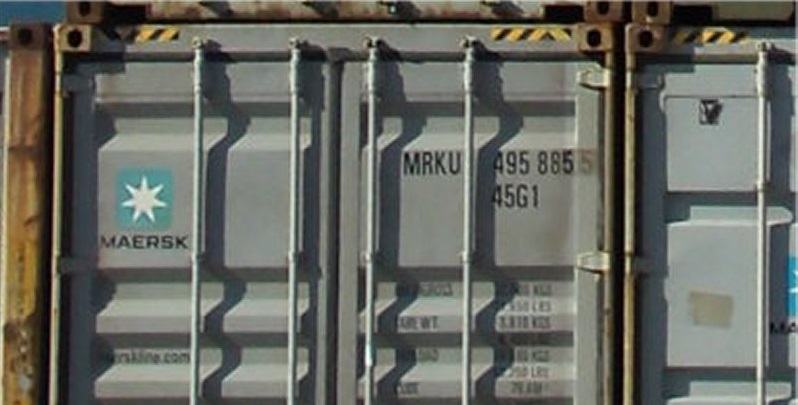container_door: (50, 14, 608, 405)
